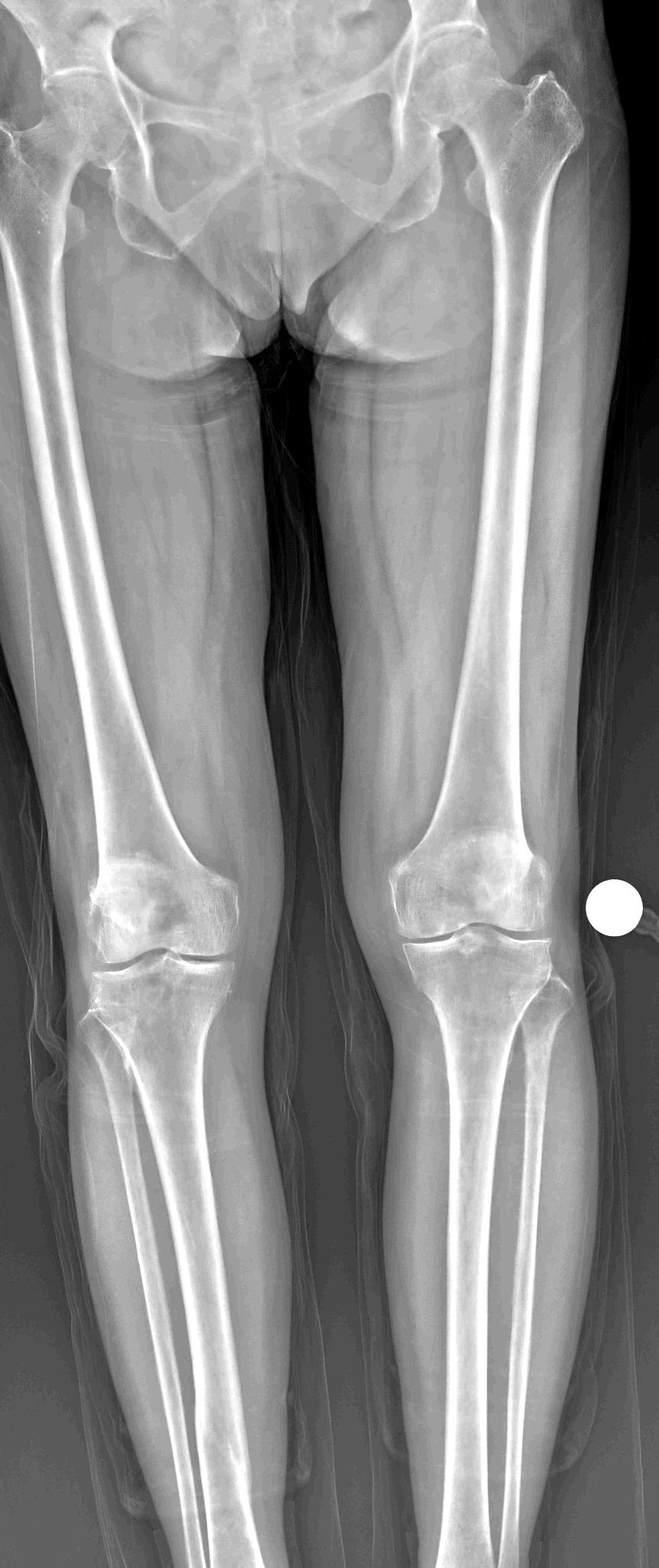Leg Fibula: (81, 1012, 205, 1568), (500, 974, 575, 1568)
Leg Tibia: (91, 953, 268, 1568), (409, 933, 550, 1568)
femur: (0, 11, 237, 966), (392, 36, 583, 940)
